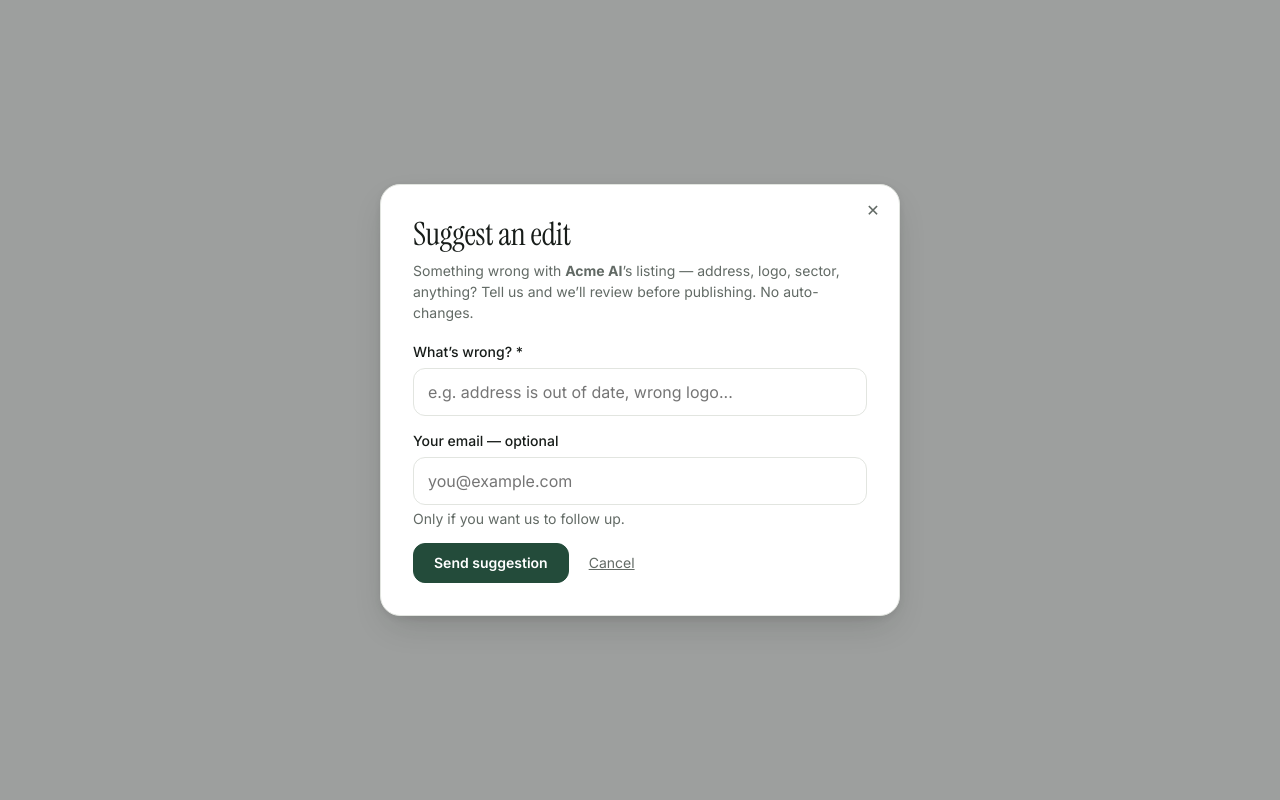
Scenario: SuggestEditForm › shows the API error message when submission fails
Type "Wrong logo" into the field labelled "What’s wrong? *".
click(640, 392); type("Wrong logo")  # box [413,368,867,416]
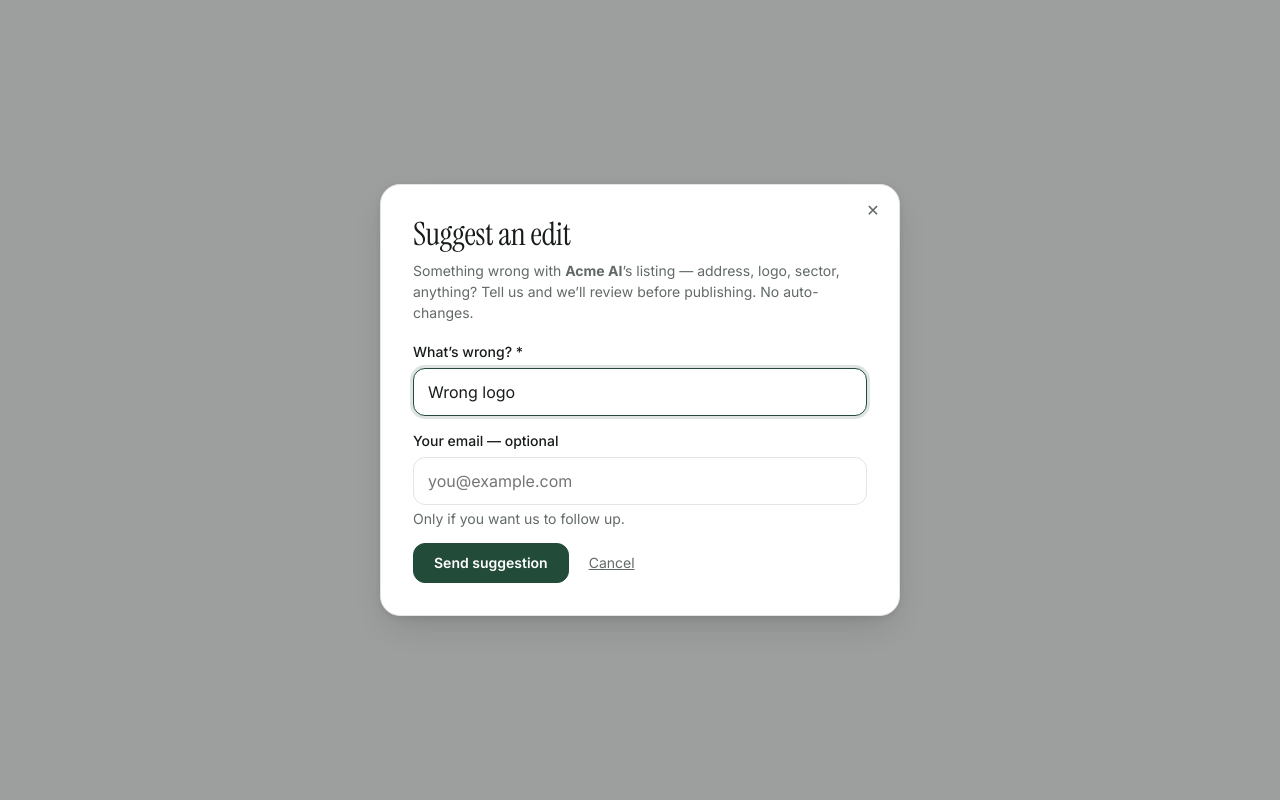
Click the button "Send suggestion".
click(491, 563)  # box [413,543,569,583]
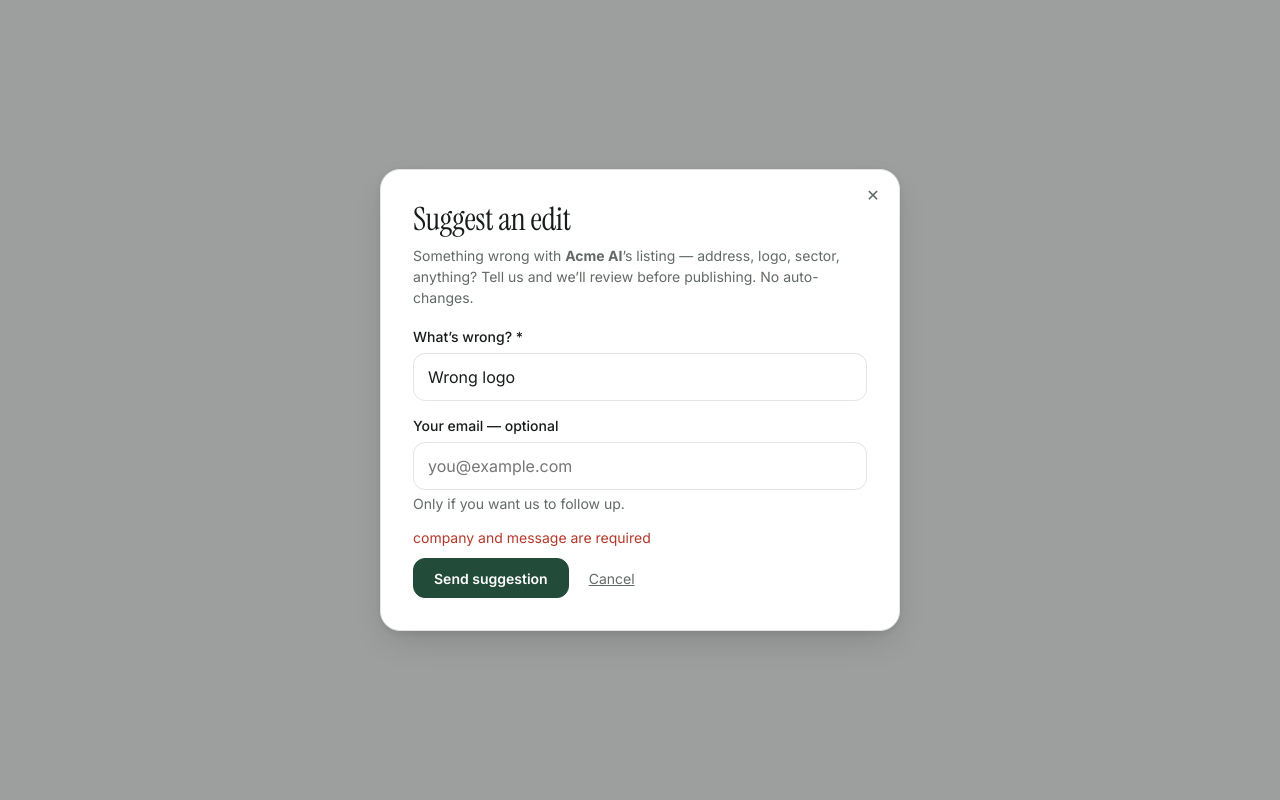
expect the text "company and message are required" is shown: met, box [413,529,651,546]
